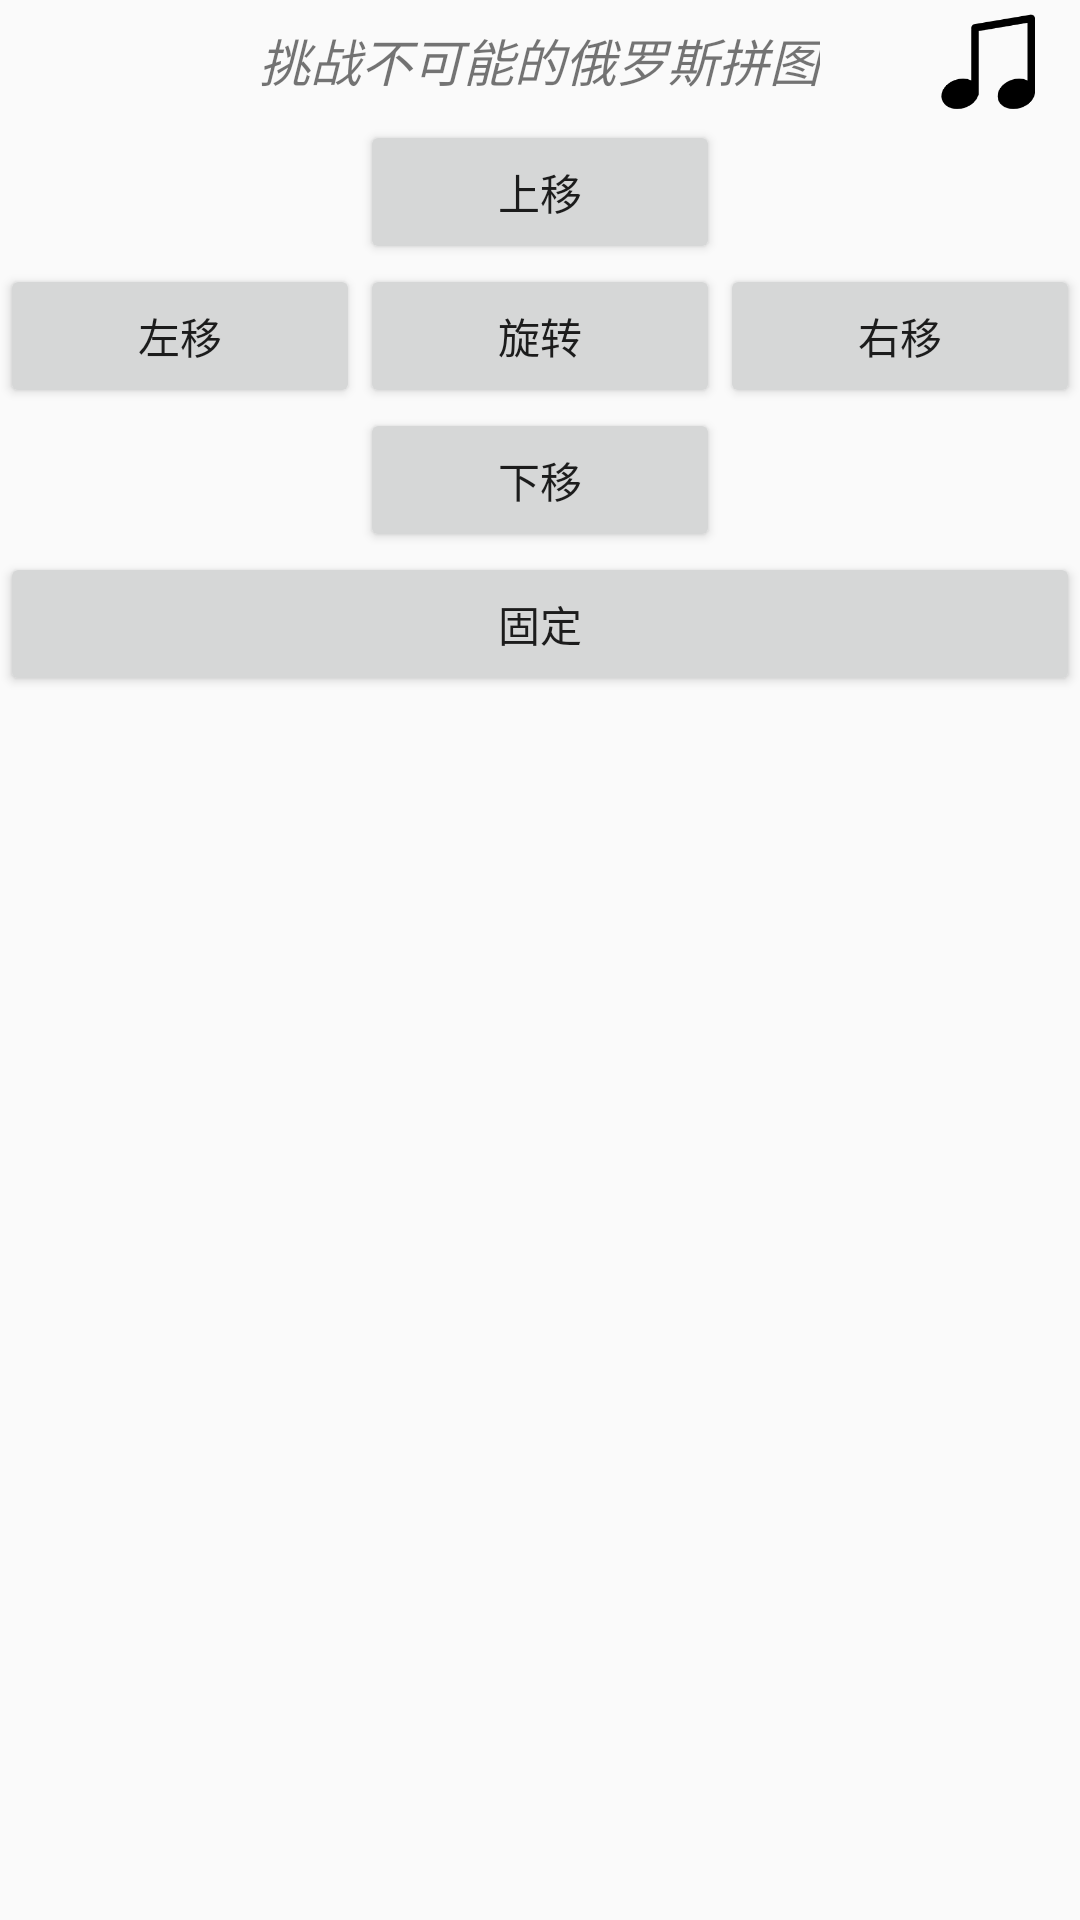

Icon click points for this 1080x1920 phone screenshot, format (x,y):
musicon: (988,61)
